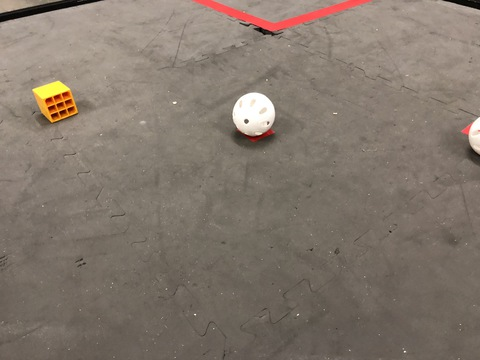ball: (221, 88, 292, 151), (469, 112, 480, 167)
block: (26, 76, 82, 130)
